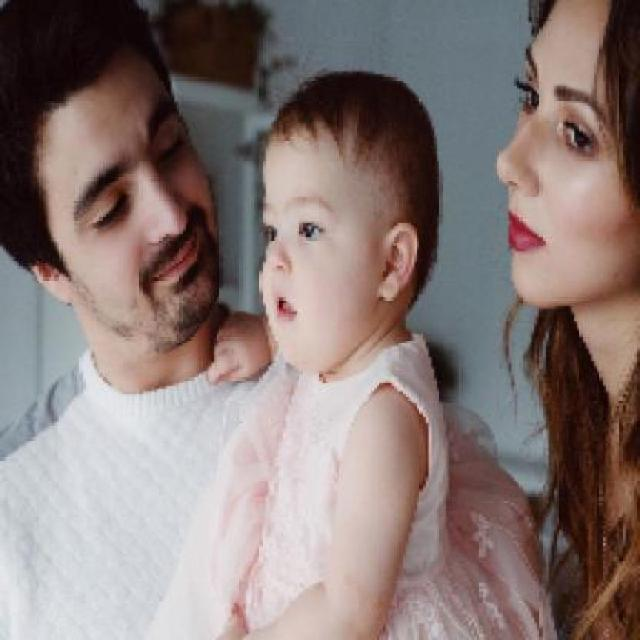child: (194, 65, 549, 638)
